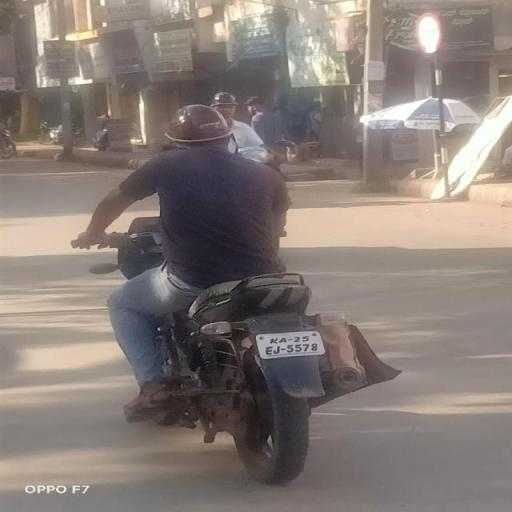numberplate: (256, 330, 326, 360)
using mobile: (159, 142, 193, 153)
